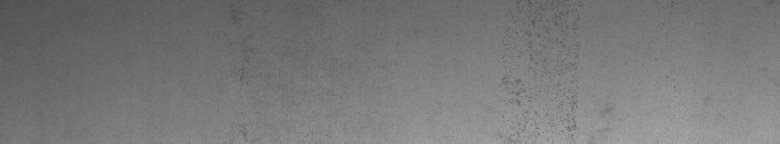ib: (502, 11, 613, 136)
